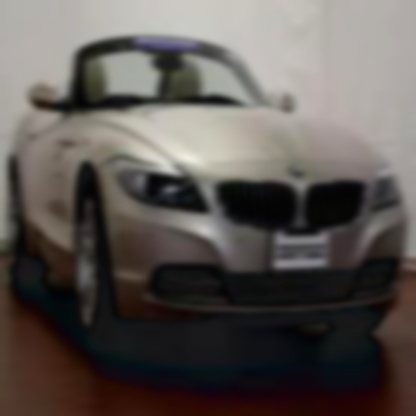Vehicle: (9, 34, 410, 362)
